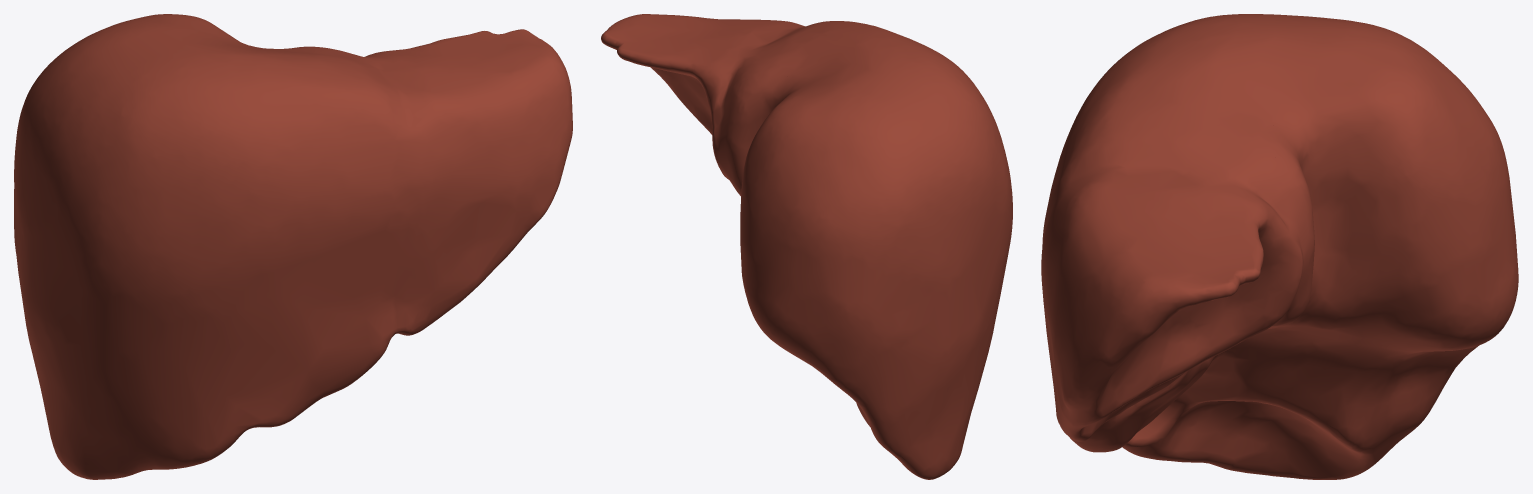
The model's file is explorar-liver.glb.
3 views of the same model, side by side, from view 1: azimuth 30°, elevation 25°; view 2: azimuth 150°, elevation 25°; view 3: azimuth 270°, elevation 25° (orthographic). The views are drawn at different scales.
Visible parts, largest first — view 1: liver__derecha, liver__izquierda; view 2: liver__derecha, liver__izquierda, liver__caudado; view 3: liver__derecha, liver__izquierda, liver__caudado.
Part boxes in pixels (x1=…): liver__derecha: x1=14, y1=14, x2=324, y2=479; liver__izquierda: x1=264, y1=29, x2=572, y2=401; liver__derecha: x1=740, y1=28, x2=1012, y2=479; liver__izquierda: x1=601, y1=14, x2=882, y2=179; liver__caudado: x1=719, y1=67, x2=793, y2=195; liver__derecha: x1=1065, y1=14, x2=1518, y2=479; liver__izquierda: x1=1041, y1=70, x2=1309, y2=452; liver__caudado: x1=1262, y1=120, x2=1337, y2=333.
Size of the model in its own units: 0.199 by 0.174 by 0.15.
